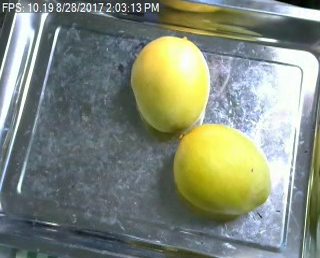Mango: (169, 125, 274, 218), (132, 34, 212, 133)
